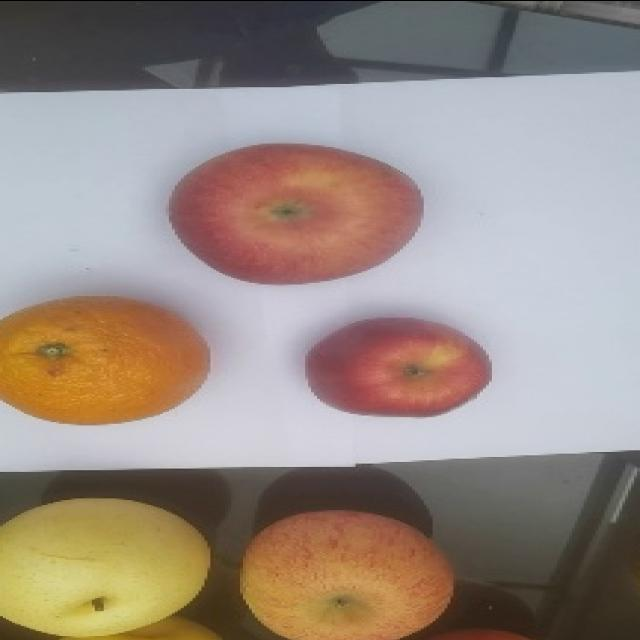Apple: (167, 141, 424, 285), (238, 508, 455, 639), (304, 315, 492, 417)
Orange: (0, 294, 210, 425)
